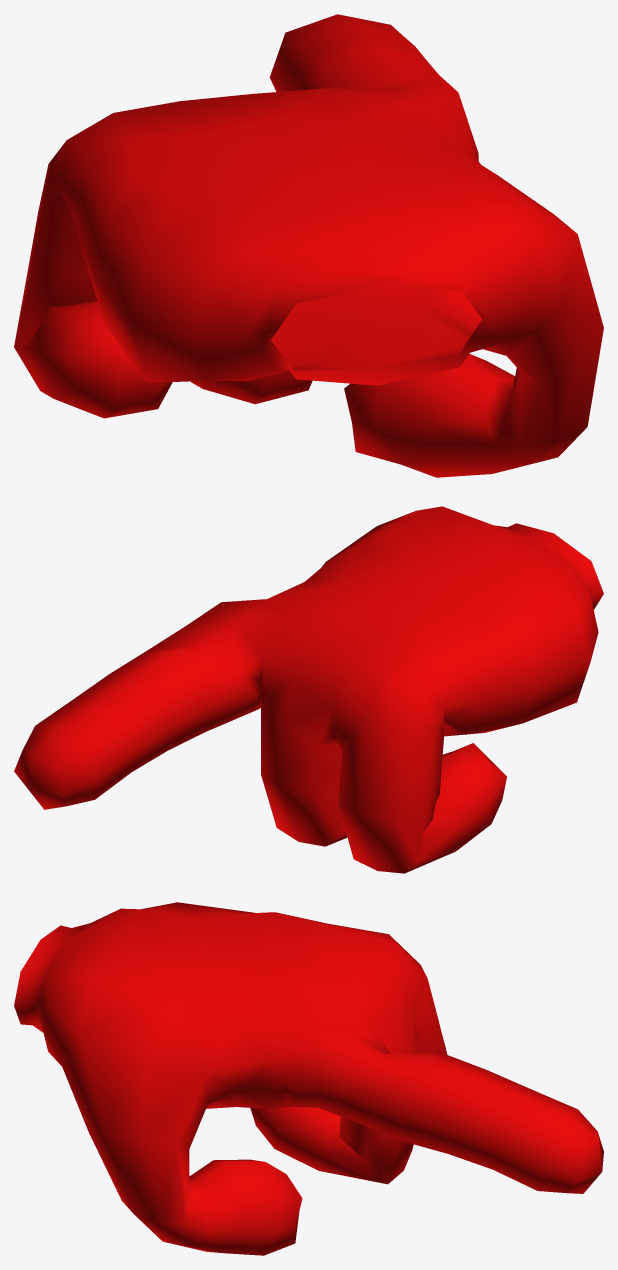
Rendered from Pointer_Hand_Left.dae.
The picture shows the model from 3 angles, top to bottom: view 1: azimuth 30°, elevation 25°; view 2: azimuth 150°, elevation 25°; view 3: azimuth 270°, elevation 25°; orthographic projection. The views are drawn at different scales.
Visible parts, largest first — view 1: Pointer_Hand; view 2: Pointer_Hand; view 3: Pointer_Hand.
Boxes of the visible parts, bbox=[...] form: Pointer_Hand: bbox=[14, 14, 603, 477]; Pointer_Hand: bbox=[14, 506, 603, 873]; Pointer_Hand: bbox=[14, 902, 603, 1255].
Bounding box in the file's own units: 0.0262 × 0.0354 × 0.0173.
